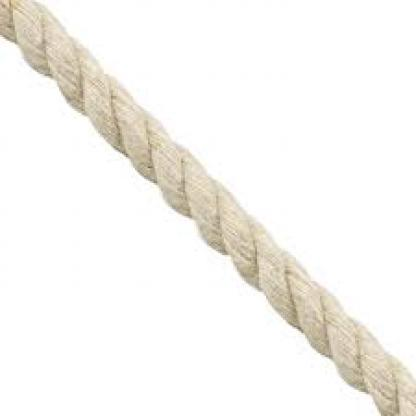Rope: (1, 0, 410, 412)
